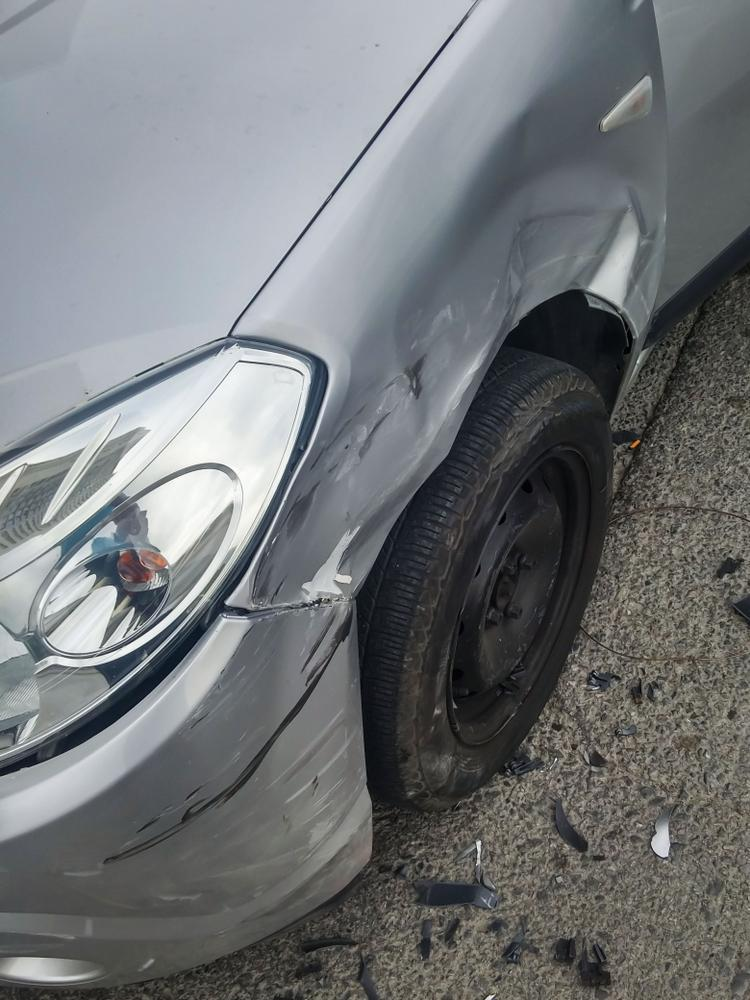dent: (249, 111, 668, 600)
scratch: (76, 606, 368, 948)
